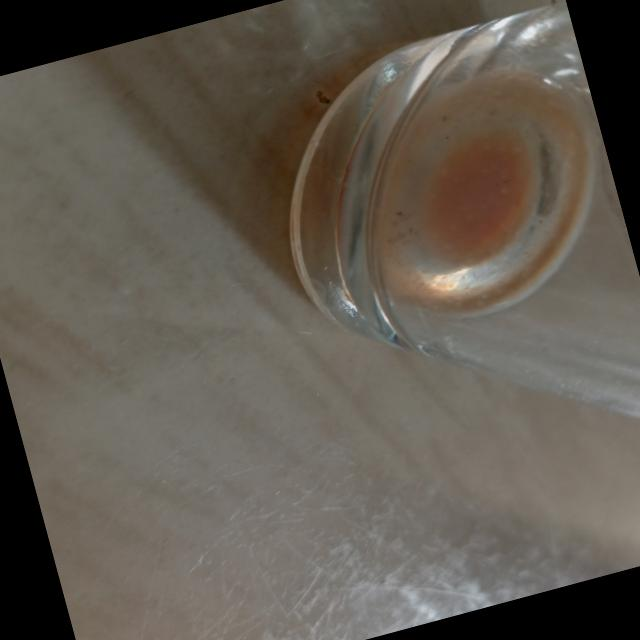glass-VX4N: (237, 1, 640, 570)
